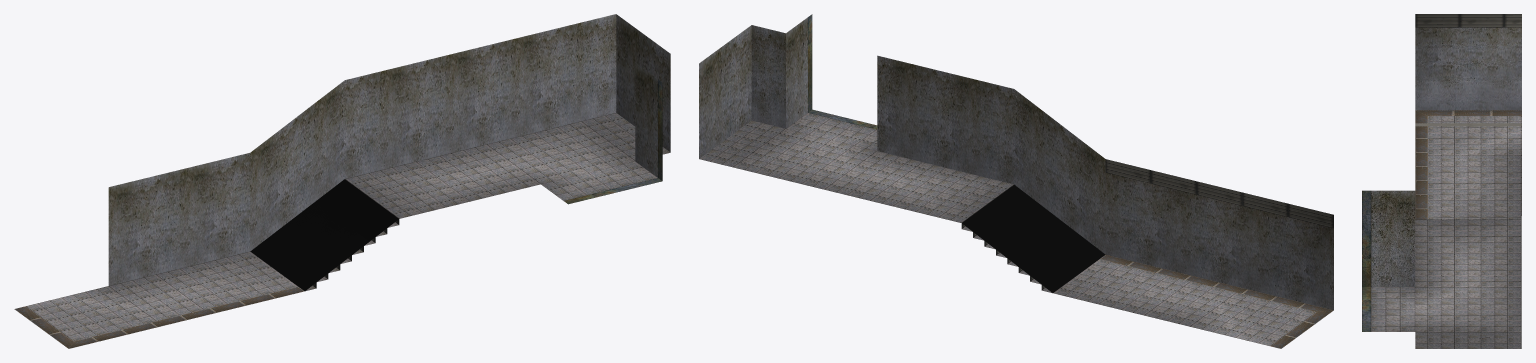
The model's file is M11Z2_SCUDHouse03_F.glb.
3 views of the same model, side by side, from view 1: azimuth 30°, elevation 25°; view 2: azimuth 150°, elevation 25°; view 3: azimuth 270°, elevation 25° (orthographic). The views are drawn at different scales.
Parts seen in each view (by area): view 1: M11Z2_SCUDHOUSE03_F; view 2: M11Z2_SCUDHOUSE03_F; view 3: M11Z2_SCUDHOUSE03_F.
Part boxes in pixels (bbox=[...]): M11Z2_SCUDHOUSE03_F: bbox=[14, 14, 670, 348]; M11Z2_SCUDHOUSE03_F: bbox=[699, 14, 1333, 348]; M11Z2_SCUDHOUSE03_F: bbox=[1362, 14, 1521, 348].
Size of the model in its own units: 25.5 by 6 by 6.
7 materials, 6 textured.
